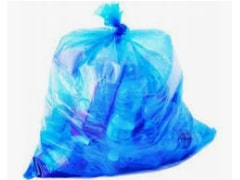kantong: (22, 2, 218, 180)
